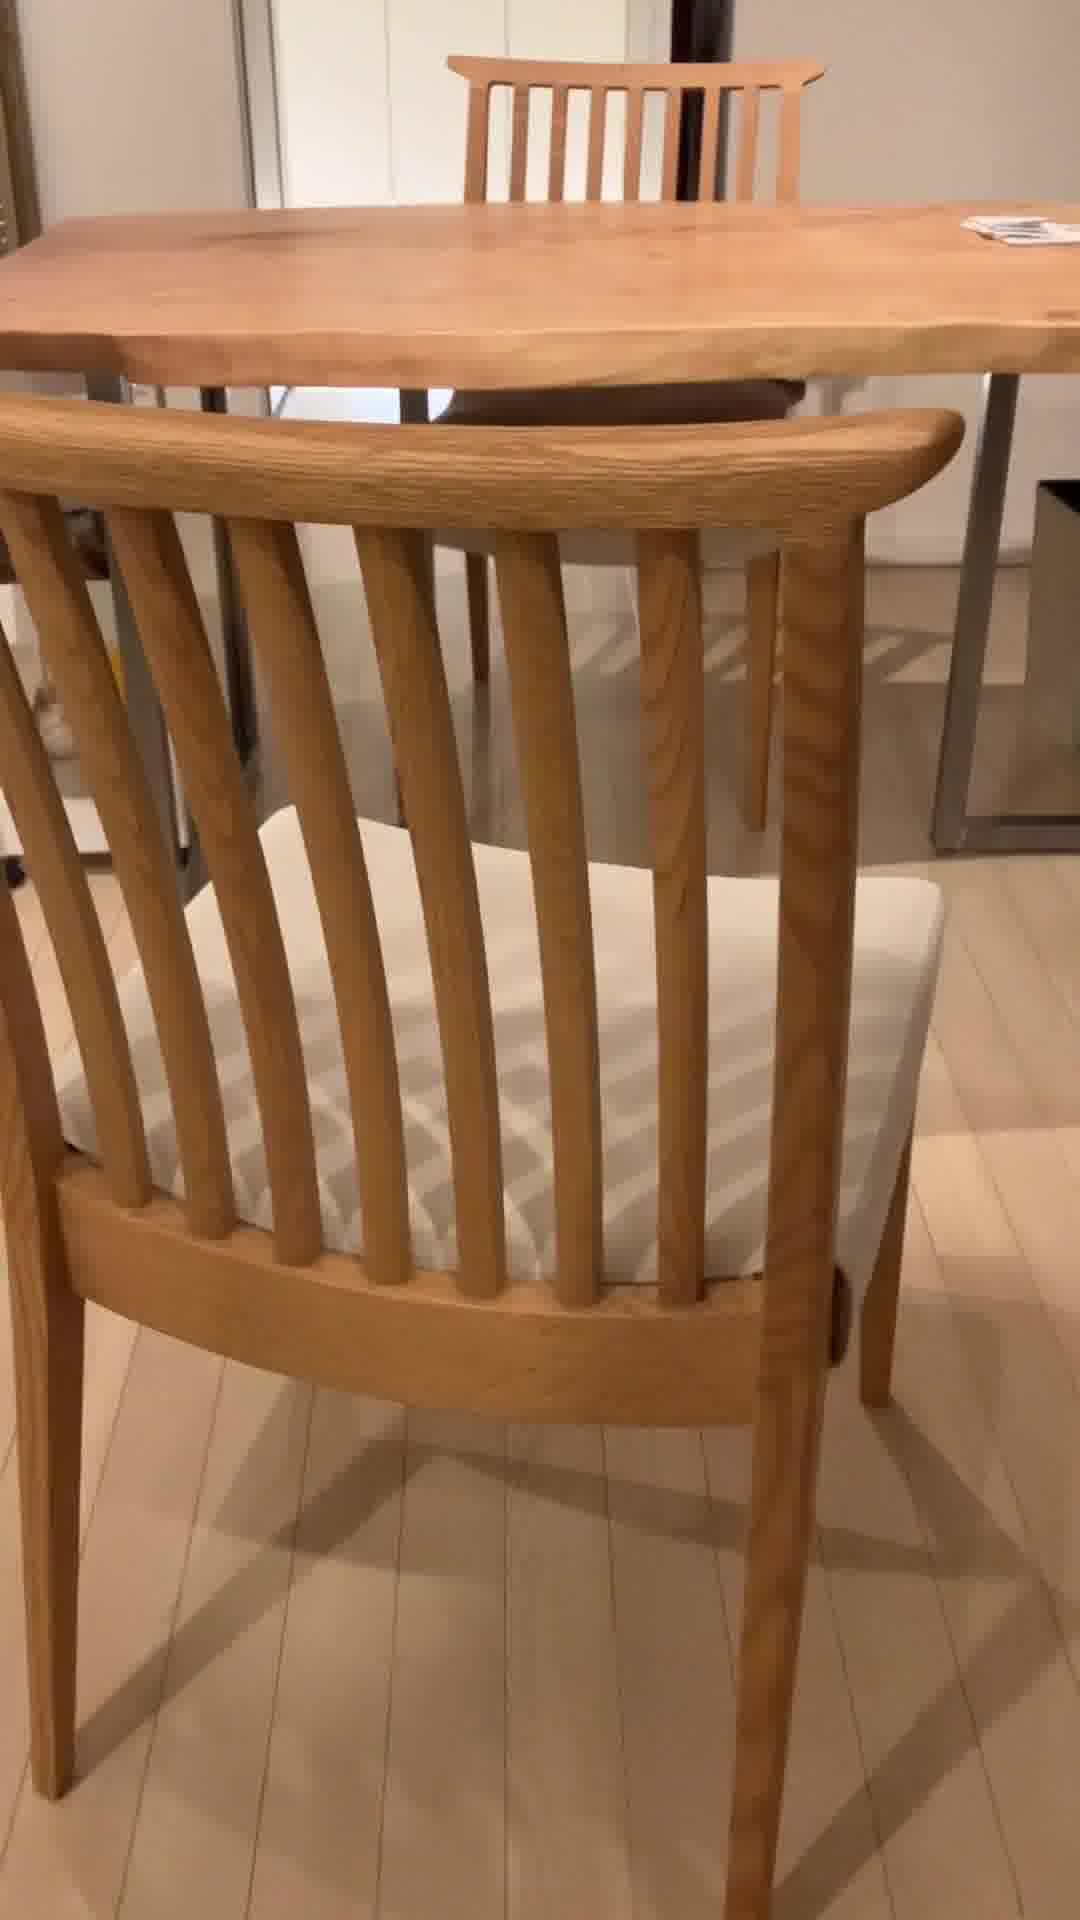takumikan-chair: (0, 386, 971, 1920)
